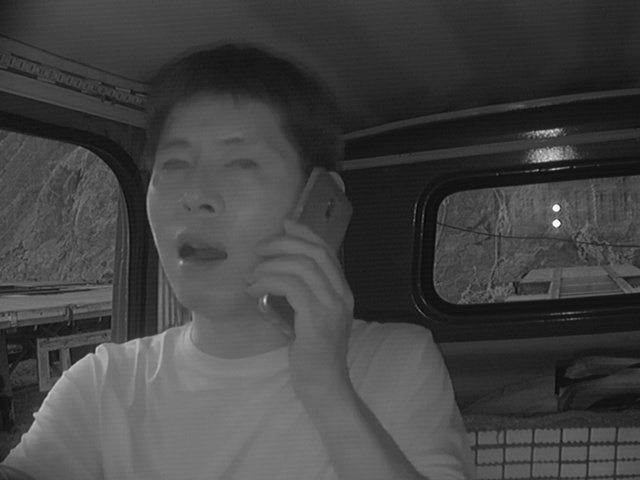hand: (249, 218, 360, 380)
